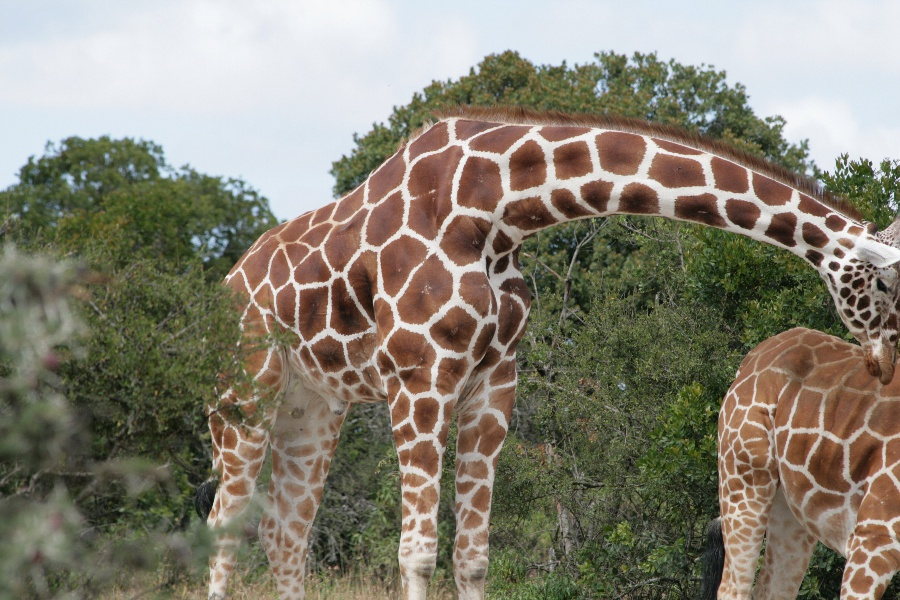giraffe: (196, 96, 899, 598), (712, 318, 899, 599)
